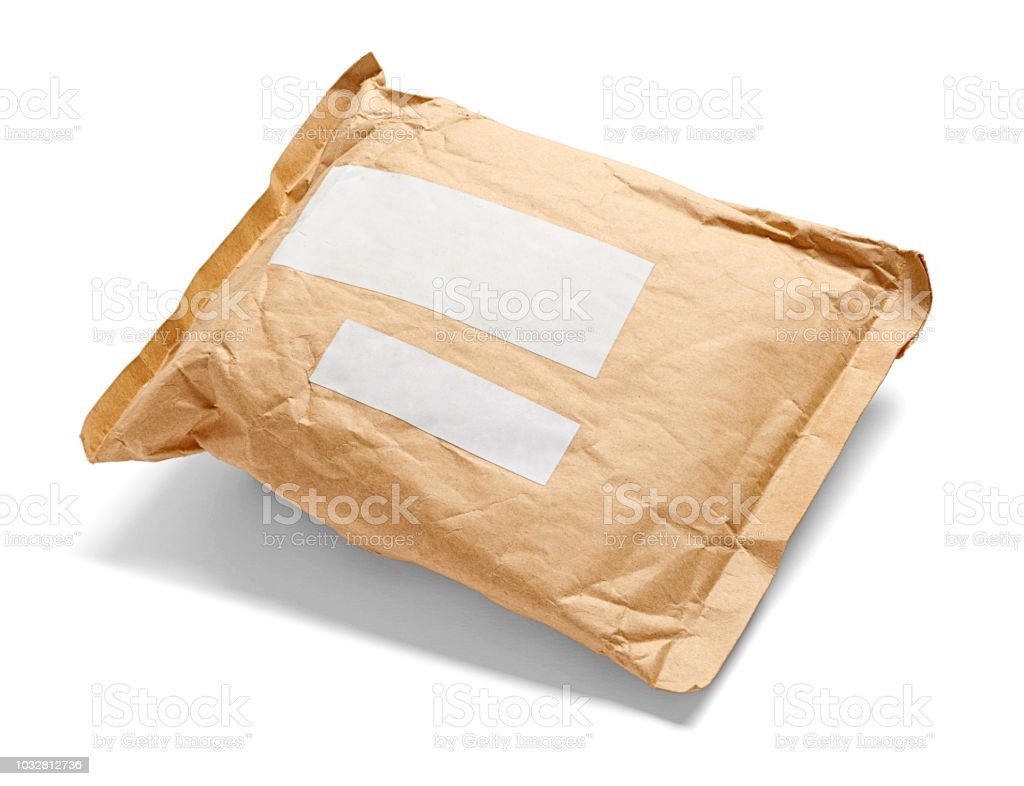Parcel: (79, 52, 932, 687)
